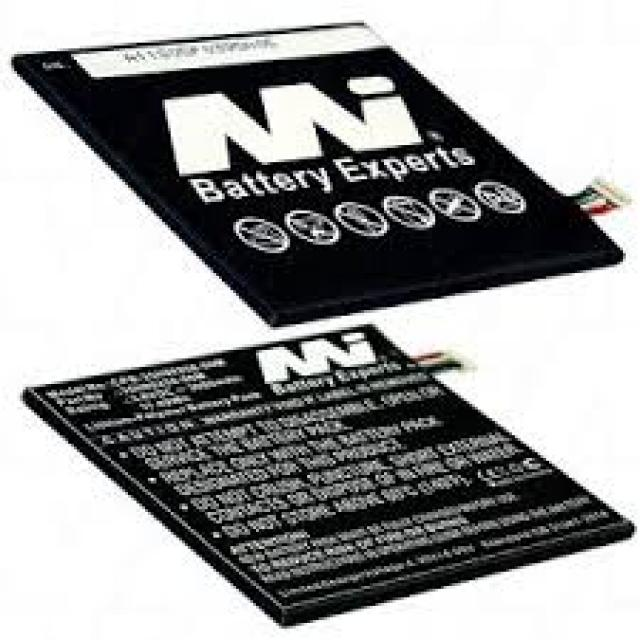non-organic waste: (10, 15, 629, 329), (19, 324, 636, 628)
